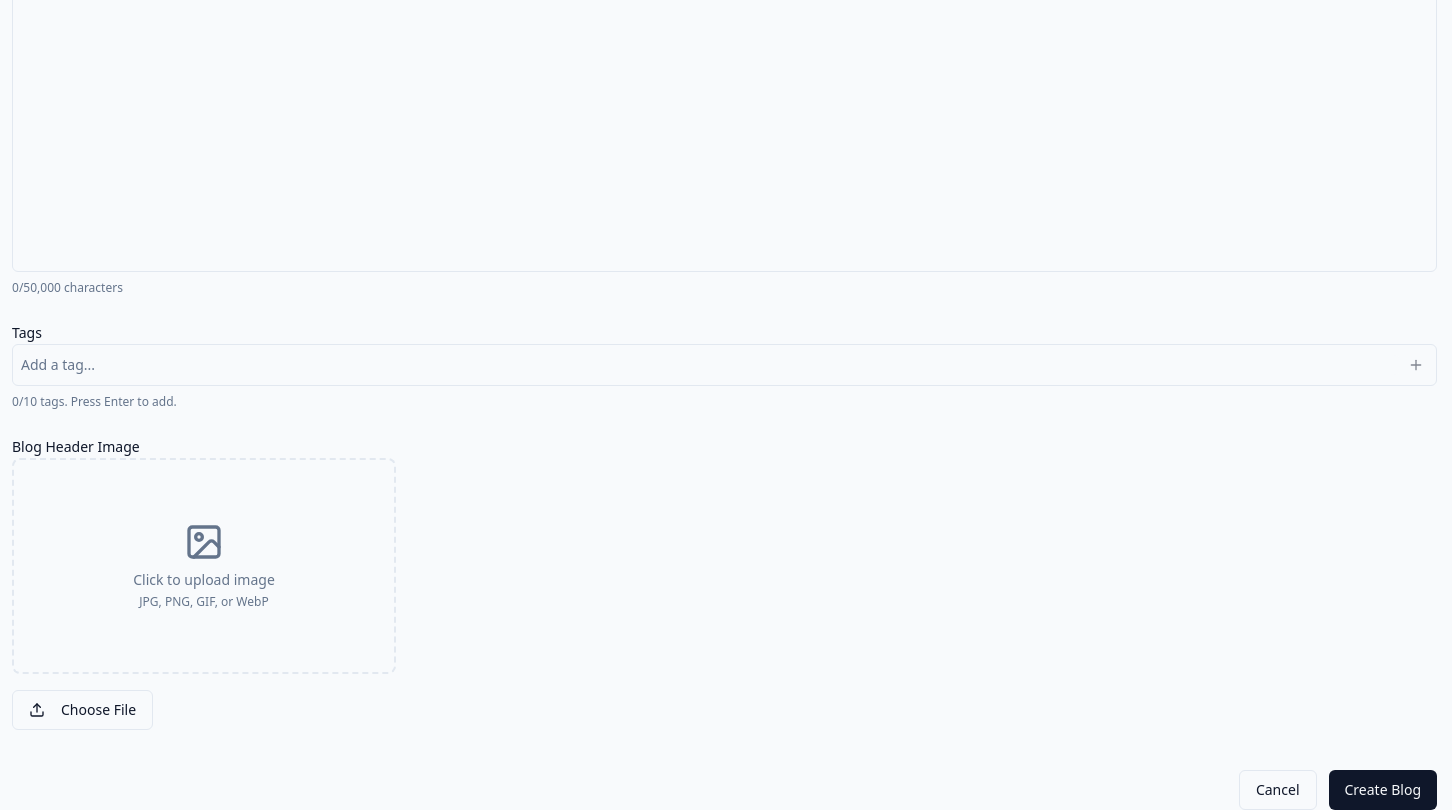
Test: BlogForm › shows validation errors and does not submit an empty form
(page scrolled)
Click the button "Create Blog": (1383, 790) [1328,770,1437,809]
(page scrolled)
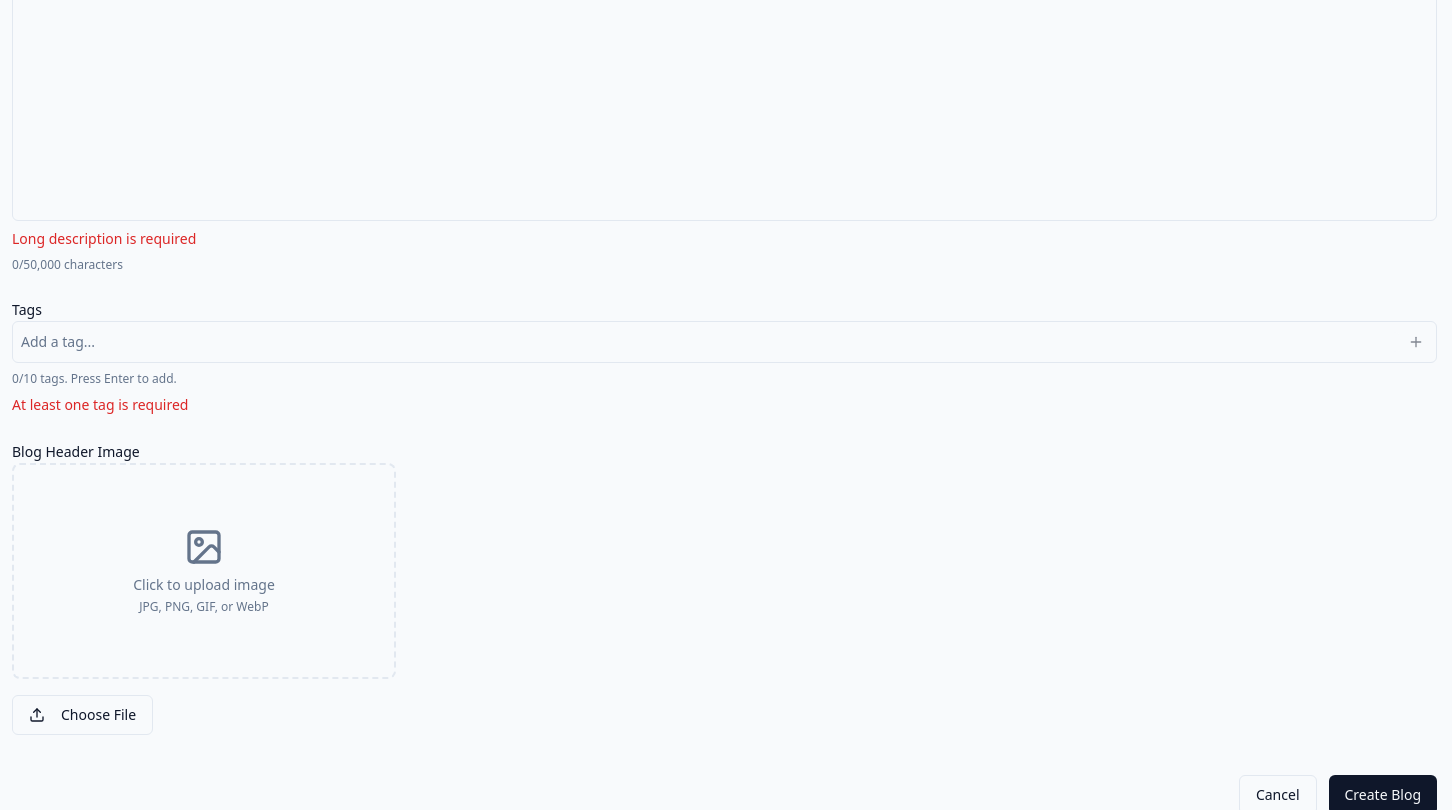
Expected: the text "Long description is required" is shown, [12,229,196,248]
Expected: the text "At least one tag is required" is shown, [12,395,188,414]
